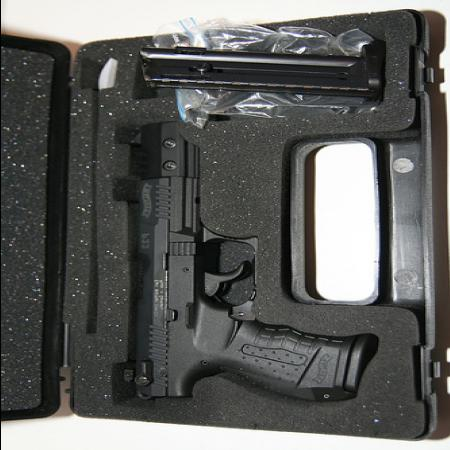Pistol: (118, 119, 378, 400)
